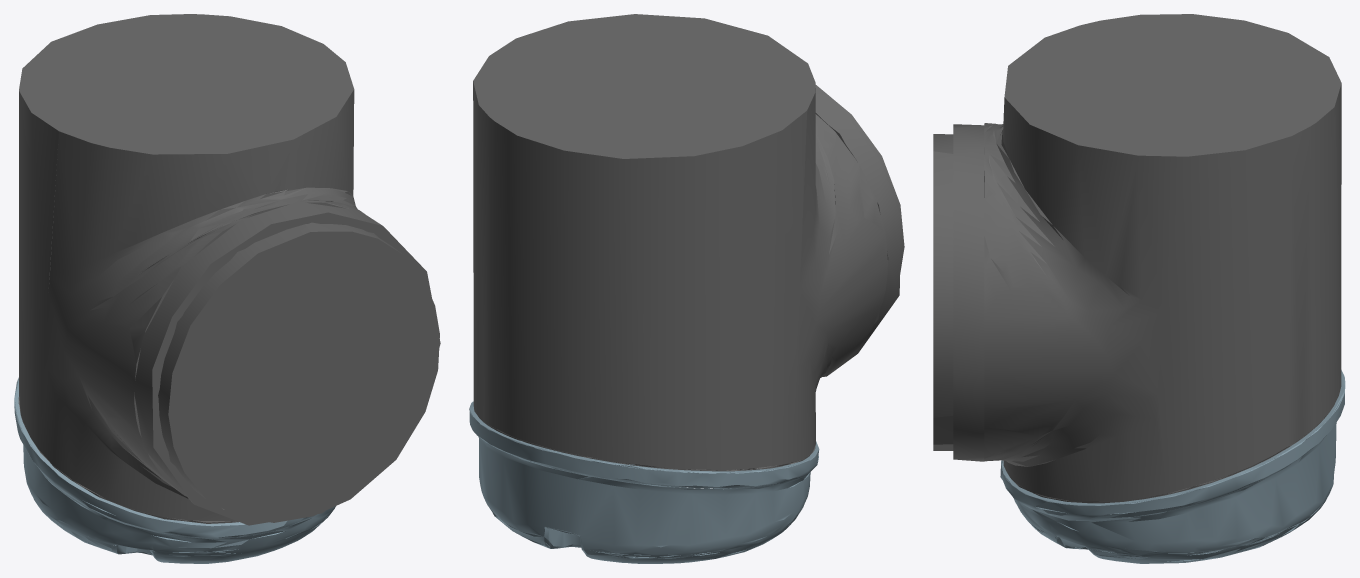
3 views of the same model, side by side, from view 1: azimuth 30°, elevation 25°; view 2: azimuth 150°, elevation 25°; view 3: azimuth 270°, elevation 25° (orthographic). The views are drawn at different scales.
Parts seen in each view (by area): view 1: Part__Feature027-mesh, Part__Feature033-mesh, Part__Feature028-mesh; view 2: Part__Feature027-mesh, Part__Feature033-mesh, Part__Feature028-mesh; view 3: Part__Feature027-mesh, Part__Feature033-mesh, Part__Feature028-mesh.
Boxes of the visible parts, x1,y1,x2,y2 form: Part__Feature027-mesh: (18,14,439,523); Part__Feature033-mesh: (14,377,335,563); Part__Feature028-mesh: (133,201,440,525); Part__Feature027-mesh: (473,14,904,471); Part__Feature033-mesh: (469,401,819,563); Part__Feature028-mesh: (815,91,900,376); Part__Feature027-mesh: (933,14,1341,503); Part__Feature033-mesh: (1000,370,1345,563); Part__Feature028-mesh: (953,124,984,461).
Bounding box in the file's own units: 0.0645 × 0.0888 × 0.0768.
